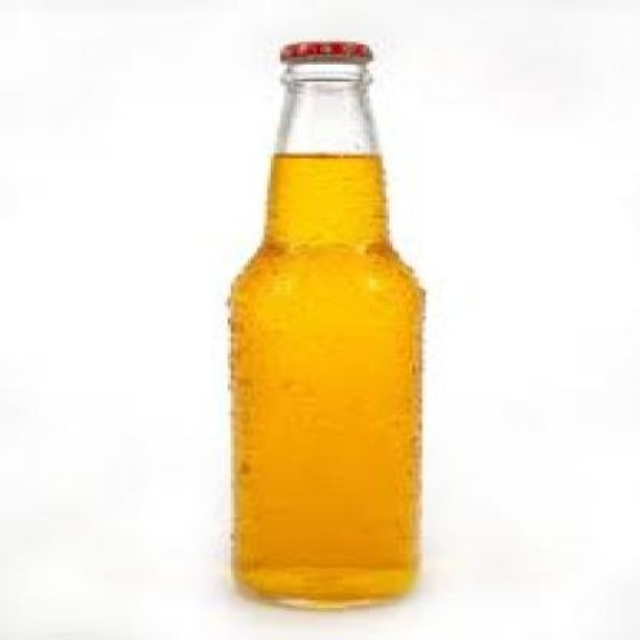trash: (231, 42, 422, 606)
